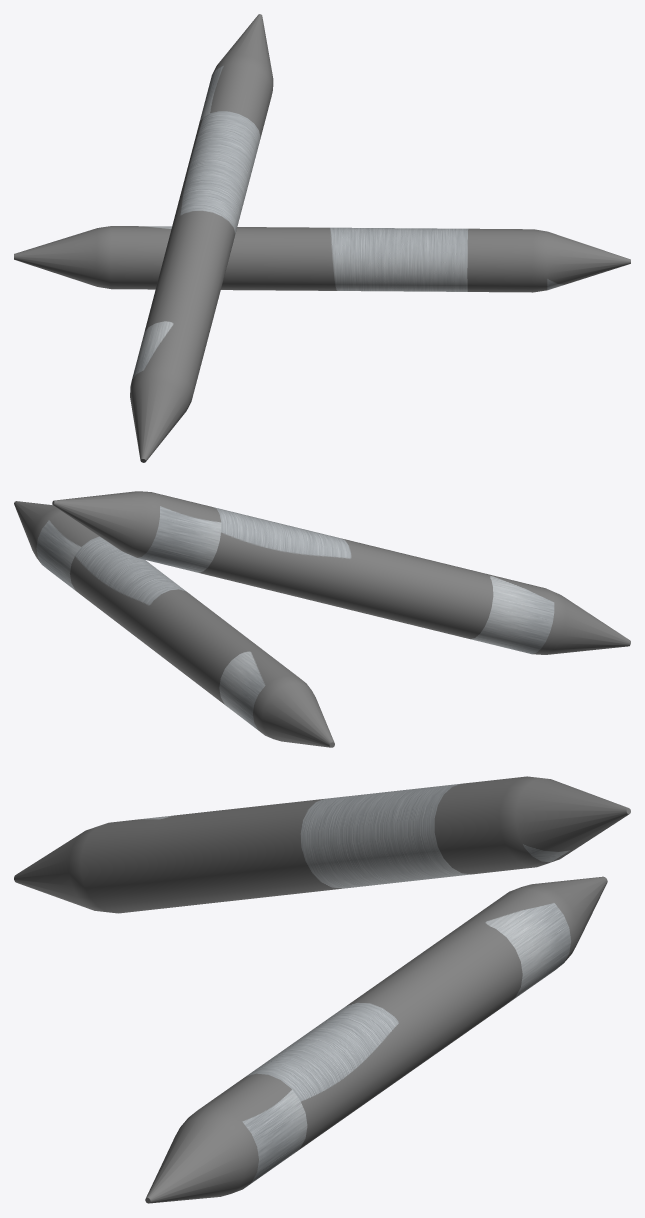
File: clap stick.fbx
3 renders of one model, top to bottom at view 1: azimuth 30°, elevation 25°; view 2: azimuth 150°, elevation 25°; view 3: azimuth 270°, elevation 25°, orthographic. The views are drawn at different scales.
Parts seen in each view (by area): view 1: pCylinder2, pCylinder1; view 2: pCylinder1, pCylinder2; view 3: pCylinder1, pCylinder2.
Part boxes in pixels (x1,y1,x2,y2): pCylinder2: [14, 226, 630, 292]; pCylinder1: [130, 14, 273, 462]; pCylinder1: [52, 491, 630, 654]; pCylinder2: [14, 501, 334, 747]; pCylinder1: [14, 776, 630, 913]; pCylinder2: [145, 876, 607, 1203].
Bounding box in the file's own units: 32.09 × 12.16 × 22.31.
